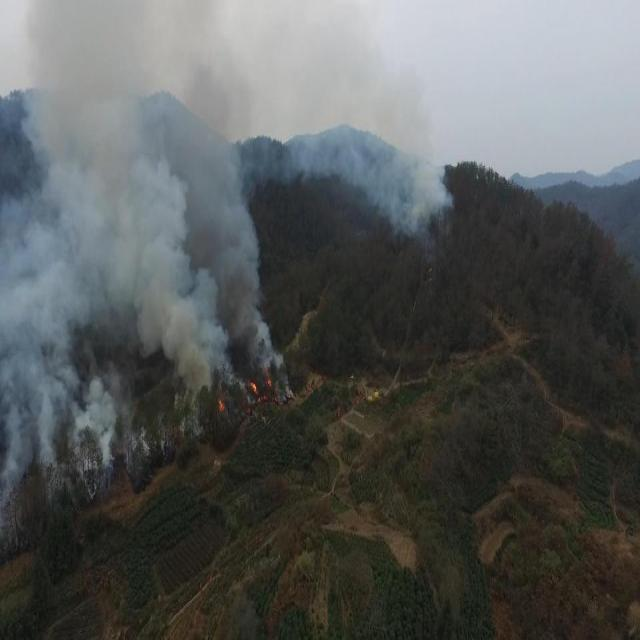Fire: (248, 376, 278, 404), (216, 396, 226, 416)
Smoke: (1, 1, 454, 502)
